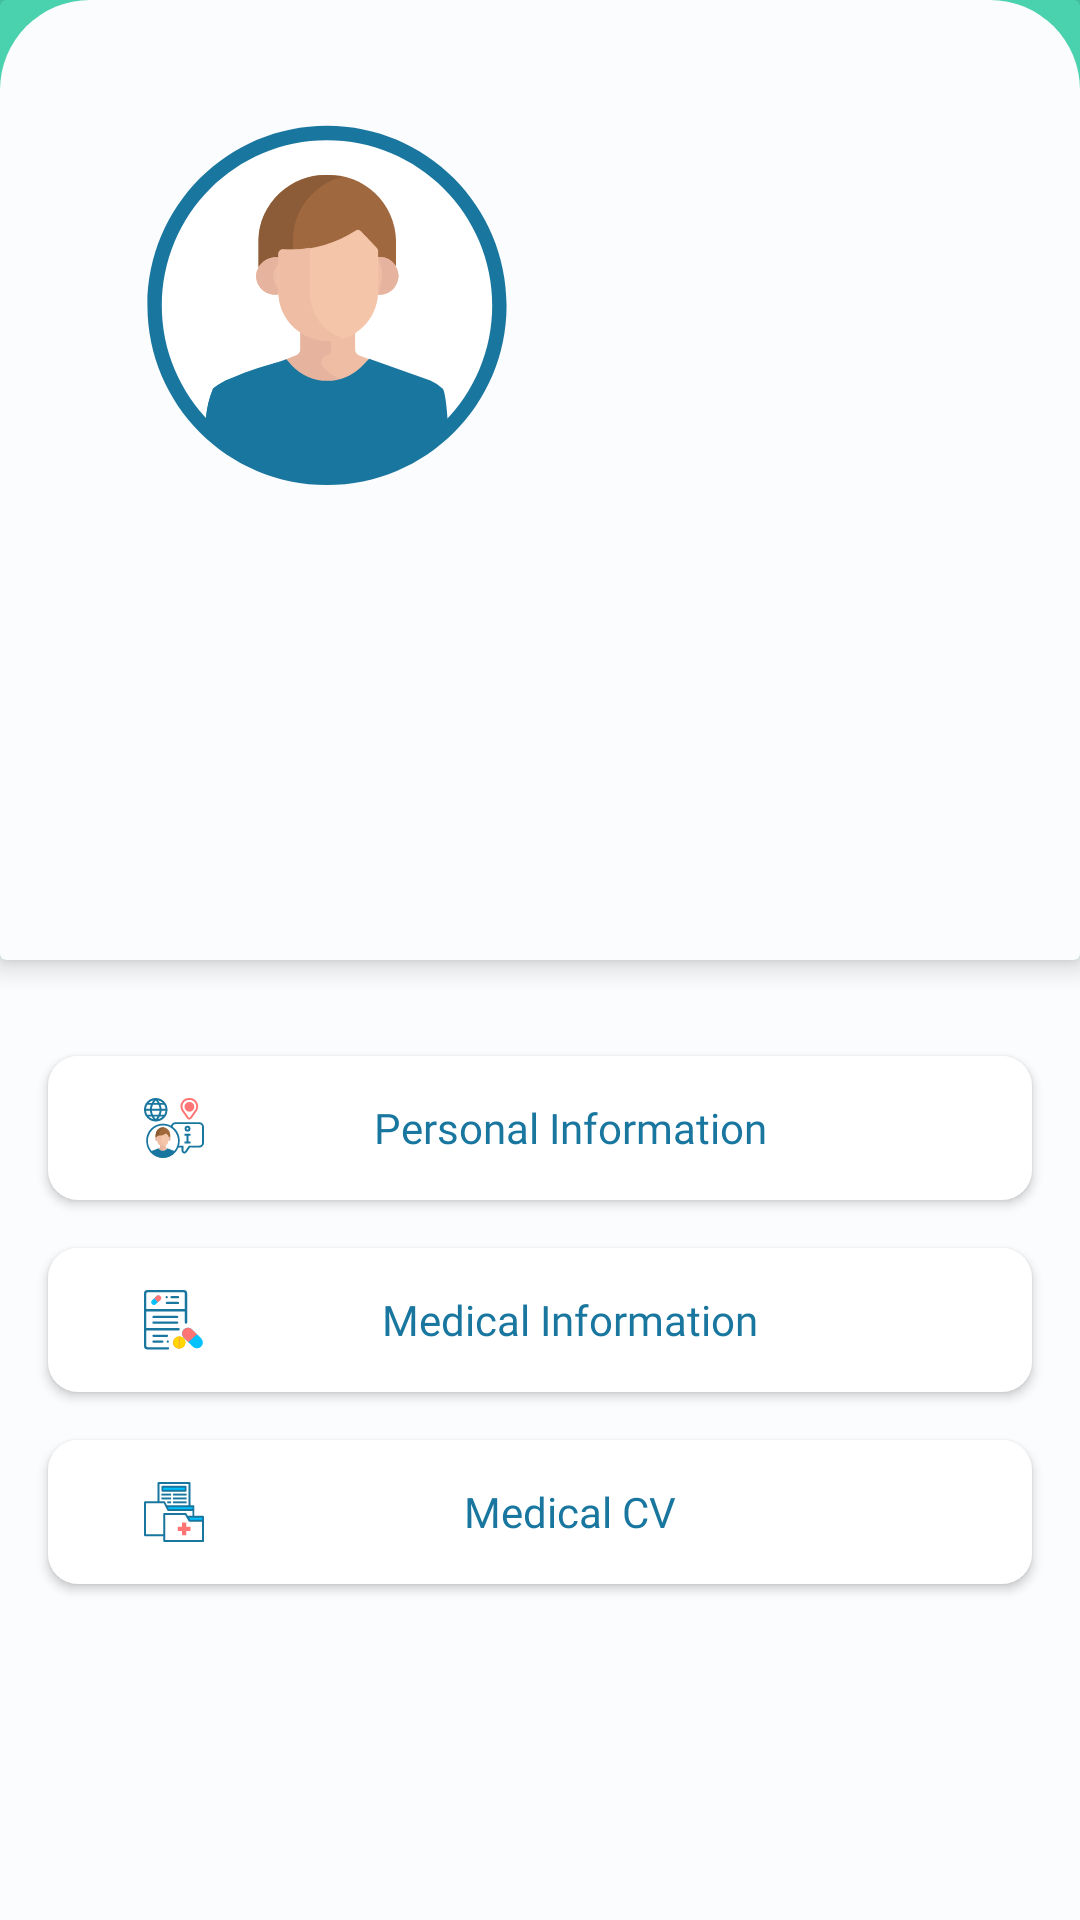

Icon bounding boxes for this 1080×1920 phone screenshot, format Rect(x1, y1, x2, y2):
user: Rect(147, 125, 507, 485)
